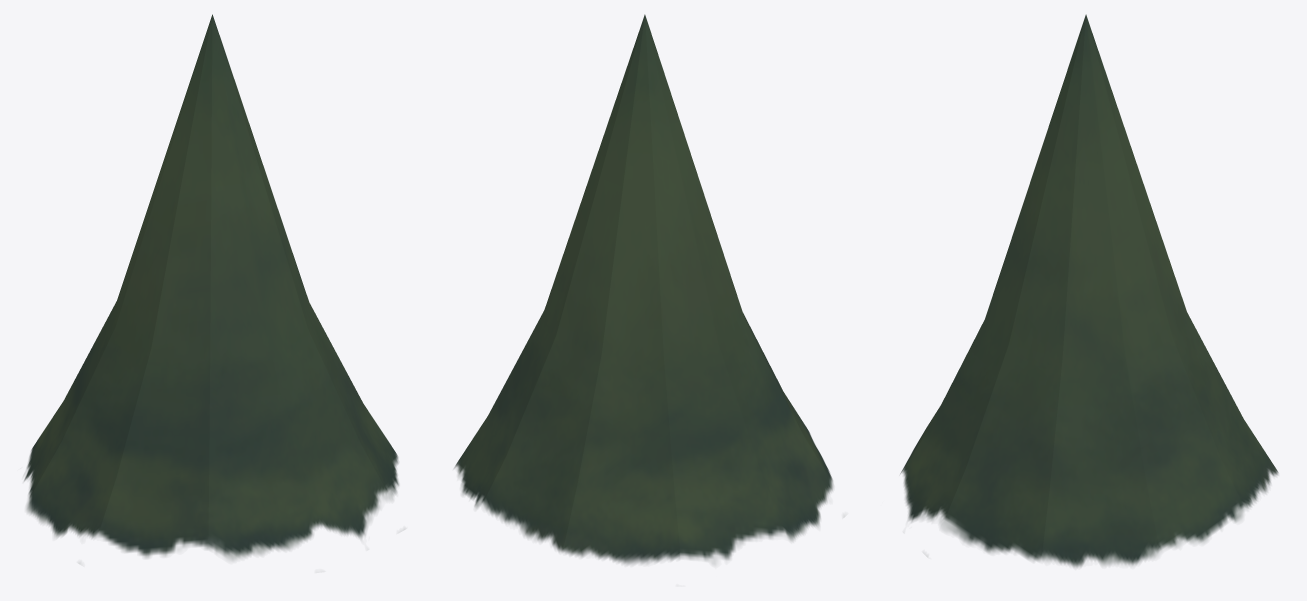
Rendered from polysurface139_lambert6_0_lev2.glb.
3 views of the same model, side by side, from view 1: azimuth 30°, elevation 25°; view 2: azimuth 150°, elevation 25°; view 3: azimuth 270°, elevation 25° (orthographic).
Visible parts, largest first — view 1: polysurface139_lambert6_0_lev2; view 2: polysurface139_lambert6_0_lev2; view 3: polysurface139_lambert6_0_lev2.
Boxes of the visible parts, bbox=[...] form: polysurface139_lambert6_0_lev2: bbox=[24, 14, 398, 560]; polysurface139_lambert6_0_lev2: bbox=[454, 14, 833, 564]; polysurface139_lambert6_0_lev2: bbox=[900, 14, 1278, 567].
Size of the model in its own units: 2.67 by 3.55 by 2.73.
1 material, 1 textured.
